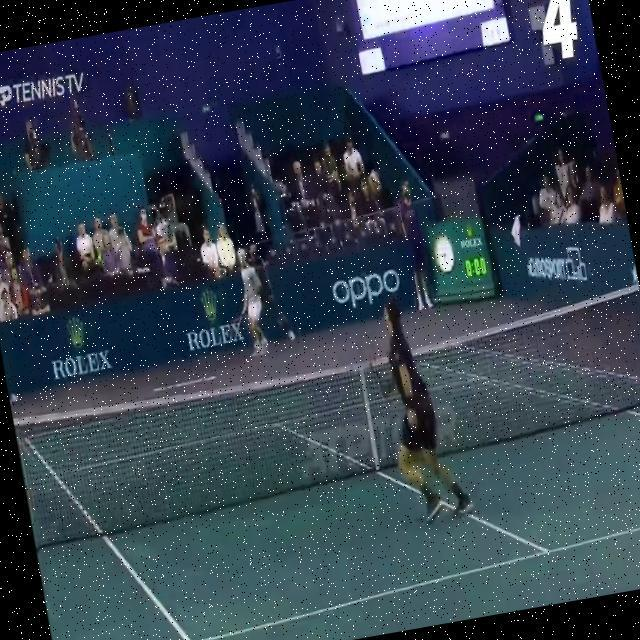net: (7, 279, 640, 531)
player: (350, 284, 479, 532)
